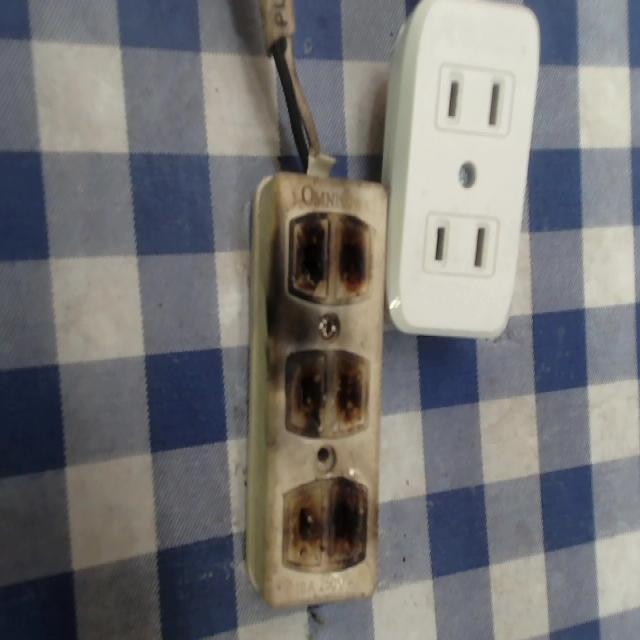-: (276, 471, 371, 572), (285, 202, 374, 306), (279, 345, 372, 440)
